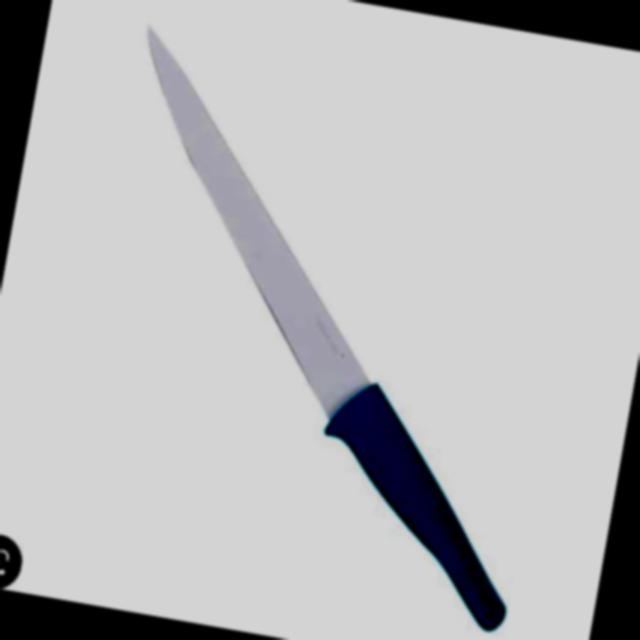knife: (38, 0, 610, 638)
